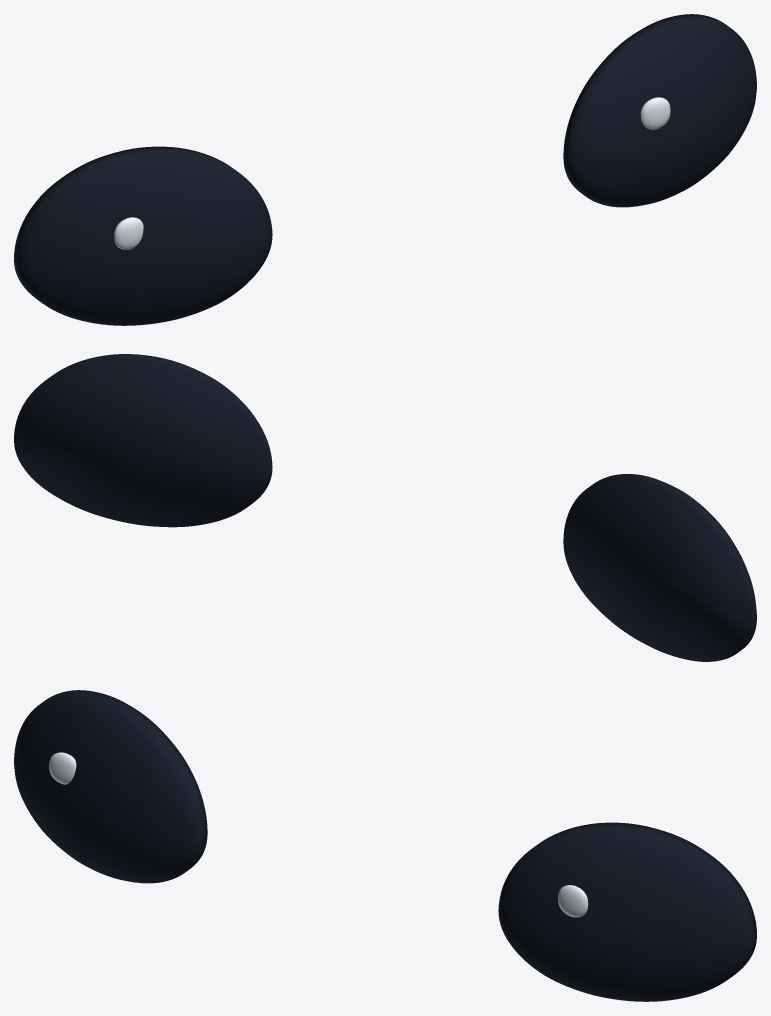
File: Masculine-eyes-lowarc.glb
3 renders of one model, top to bottom at view 1: azimuth 30°, elevation 25°; view 2: azimuth 150°, elevation 25°; view 3: azimuth 330°, elevation 25°, orthographic.
Parts seen in each view (by area): view 1: Eye / lowarc -1, Eye / lowarc 1, Eye highlight / lowarc 1, Eye highlight / lowarc -1; view 2: Eye / lowarc 1, Eye / lowarc -1; view 3: Eye / lowarc 1, Eye / lowarc -1, Eye highlight / lowarc 1, Eye highlight / lowarc -1.
Part boxes in pixels (left/top/right/bottom): Eye / lowarc -1: left=14, top=146, right=272, bottom=325; Eye / lowarc 1: left=563, top=14, right=756, bottom=207; Eye highlight / lowarc 1: left=640, top=97, right=670, bottom=129; Eye highlight / lowarc -1: left=114, top=217, right=143, bottom=249; Eye / lowarc 1: left=14, top=354, right=272, bottom=527; Eye / lowarc -1: left=563, top=474, right=756, bottom=661; Eye / lowarc 1: left=498, top=822, right=756, bottom=1001; Eye / lowarc -1: left=14, top=690, right=207, bottom=883; Eye highlight / lowarc 1: left=558, top=885, right=588, bottom=917; Eye highlight / lowarc -1: left=49, top=752, right=76, bottom=784.
Bounding box in the file's own units: 0.428 × 0.094 × 0.0475.
